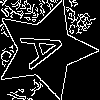A: (20, 24, 76, 71)
